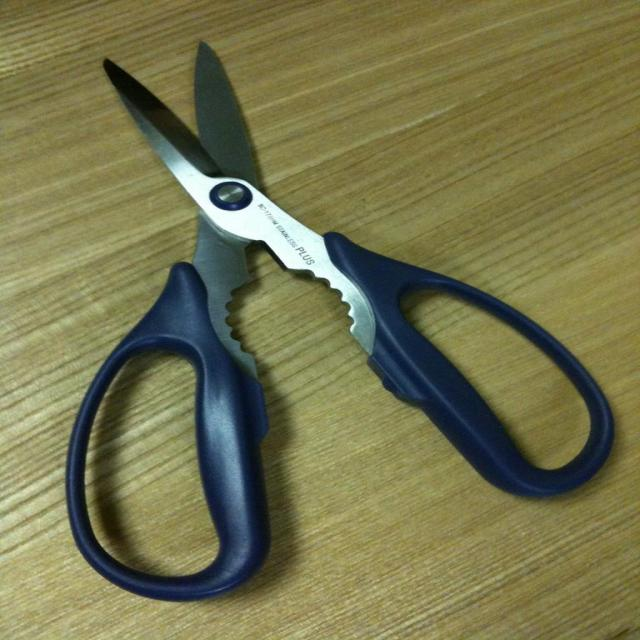scissor: (65, 41, 622, 604)
